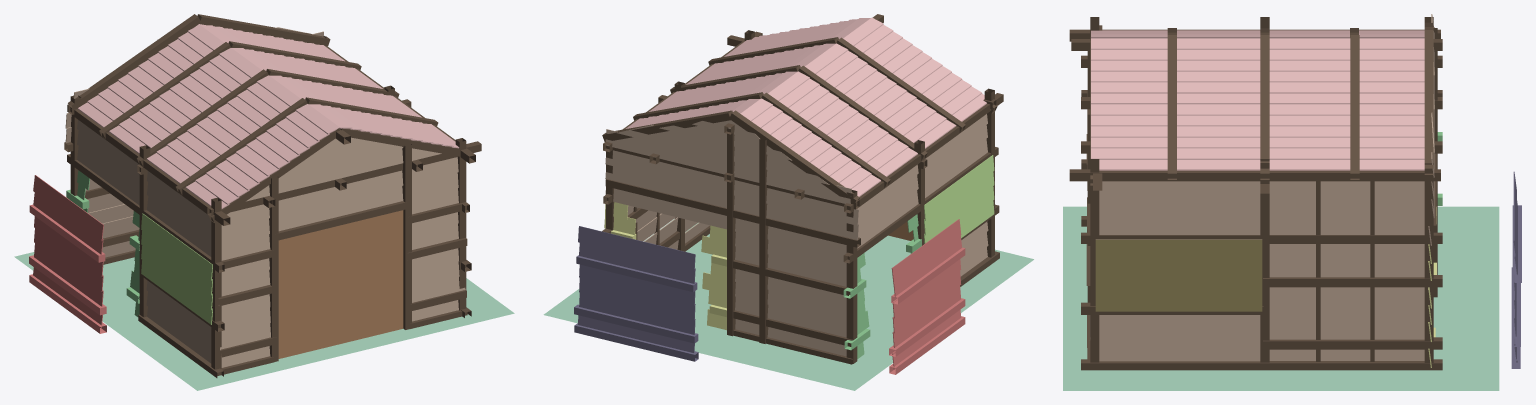
File: naya.fbx
3 renders of one model, left to right at view 1: azimuth 30°, elevation 25°; view 2: azimuth 150°, elevation 25°; view 3: azimuth 270°, elevation 25°, orthographic. The views are drawn at different scales.
Visible parts, largest first — view 1: pasted__pCube86, pCube155, polySurface102, pCube198, pPlane2, polySurface96, polySurface101, polySurface14; view 2: polySurface102, pCube155, pasted__pCube86, polySurface97, pPlane2, polySurface96, polySurface101, polySurface168, polySurface14; view 3: pCube155, polySurface102, pasted__pCube86, pPlane2, polySurface103, polySurface97.
Boxes of the visible parts, left/top/right/bottom form: pasted__pCube86: left=64, top=14, right=481, bottom=377; pCube155: left=77, top=24, right=459, bottom=208; polySurface102: left=65, top=27, right=465, bottom=367; pCube198: left=278, top=210, right=403, bottom=358; pPlane2: left=14, top=252, right=514, bottom=390; polySurface96: left=29, top=175, right=106, bottom=333; polySurface101: left=141, top=213, right=212, bottom=324; polySurface14: left=66, top=170, right=139, bottom=316; polySurface102: left=605, top=114, right=988, bottom=356; pCube155: left=626, top=17, right=986, bottom=196; pasted__pCube86: left=602, top=14, right=1003, bottom=364; polySurface97: left=574, top=226, right=698, bottom=361; pPlane2: left=543, top=219, right=1033, bottom=390; polySurface96: left=889, top=219, right=965, bottom=374; polySurface101: left=924, top=155, right=994, bottom=243; polySurface168: left=604, top=202, right=726, bottom=330; polySurface14: left=843, top=214, right=921, bottom=358; pCube155: left=1091, top=30, right=1424, bottom=170; polySurface102: left=1090, top=14, right=1434, bottom=361; pasted__pCube86: left=1069, top=17, right=1442, bottom=370; pPlane2: left=1063, top=206, right=1499, bottom=390; polySurface103: left=1095, top=239, right=1262, bottom=311; polySurface97: left=1511, top=171, right=1521, bottom=368.
Bounding box in the file's own units: 714 × 468 × 719.
